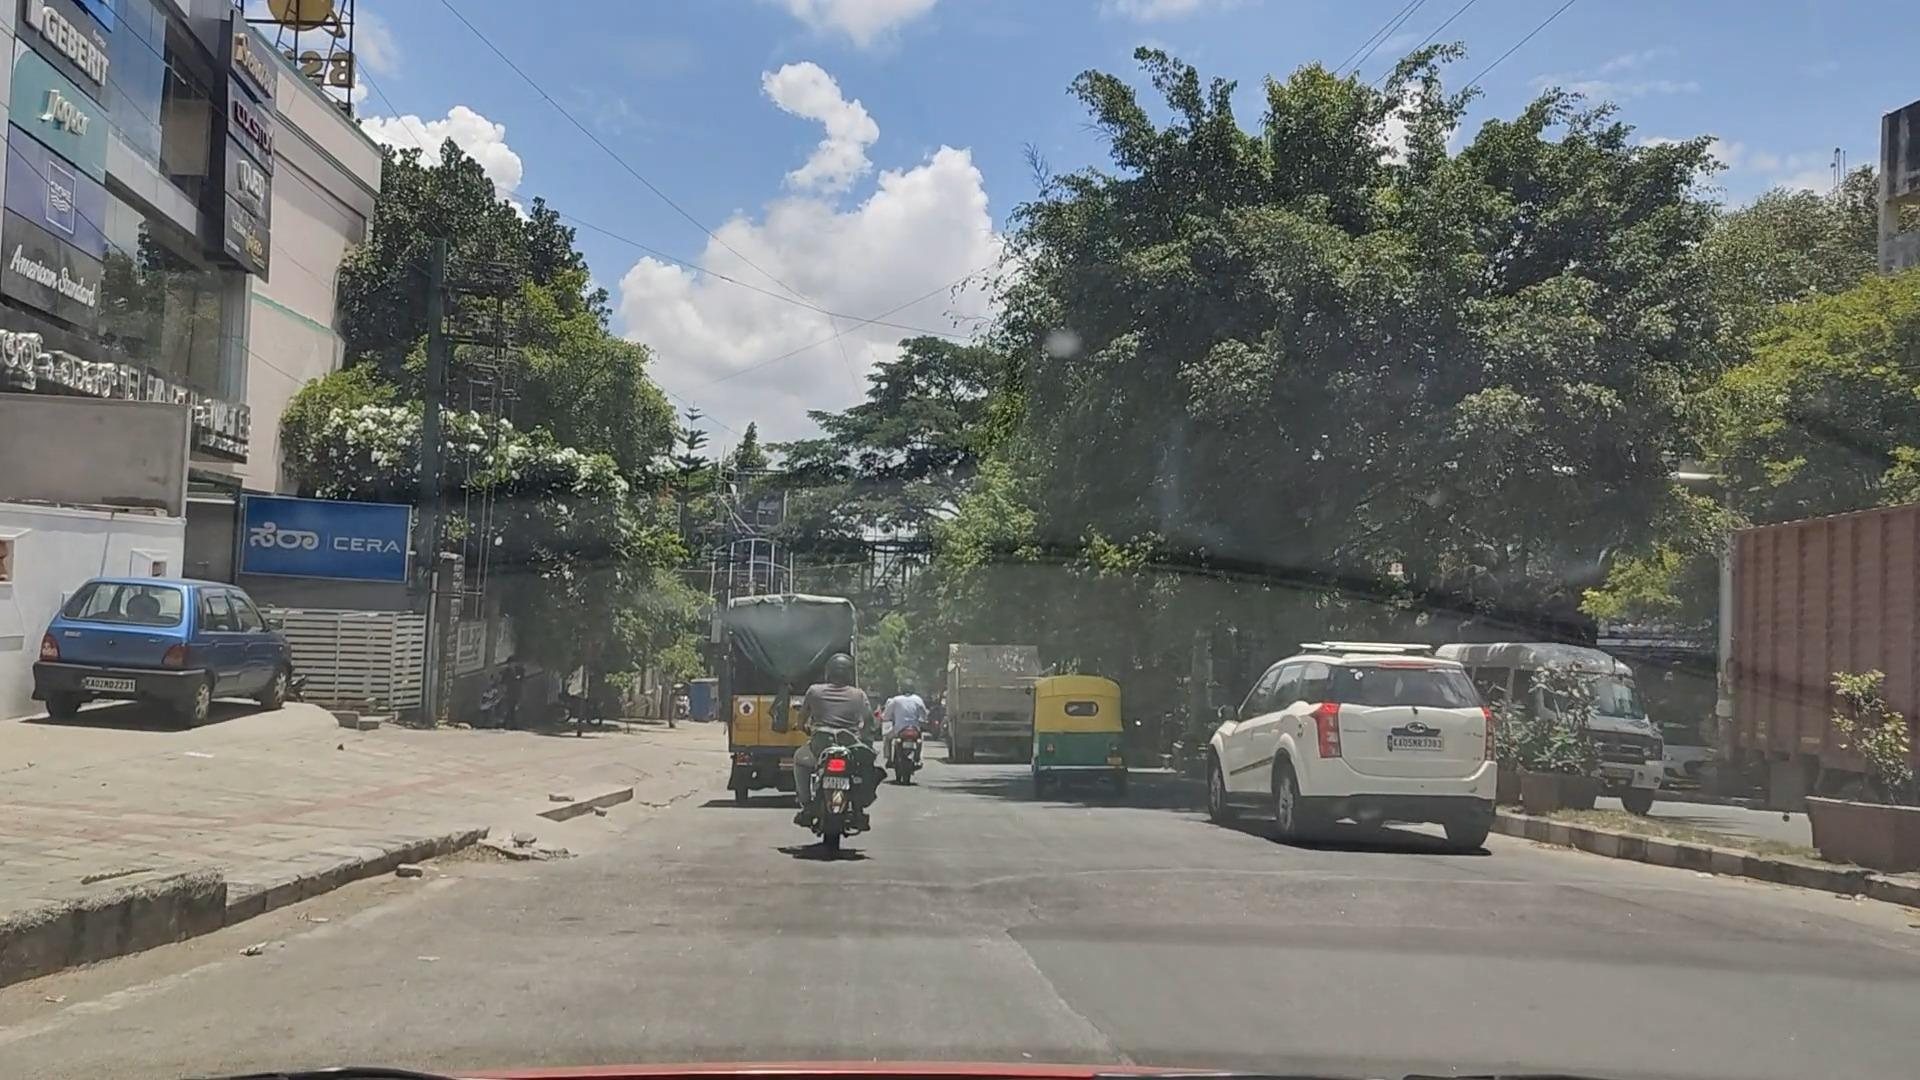HMV: (1477, 616, 1720, 862), (692, 582, 866, 814), (909, 600, 1063, 799)
